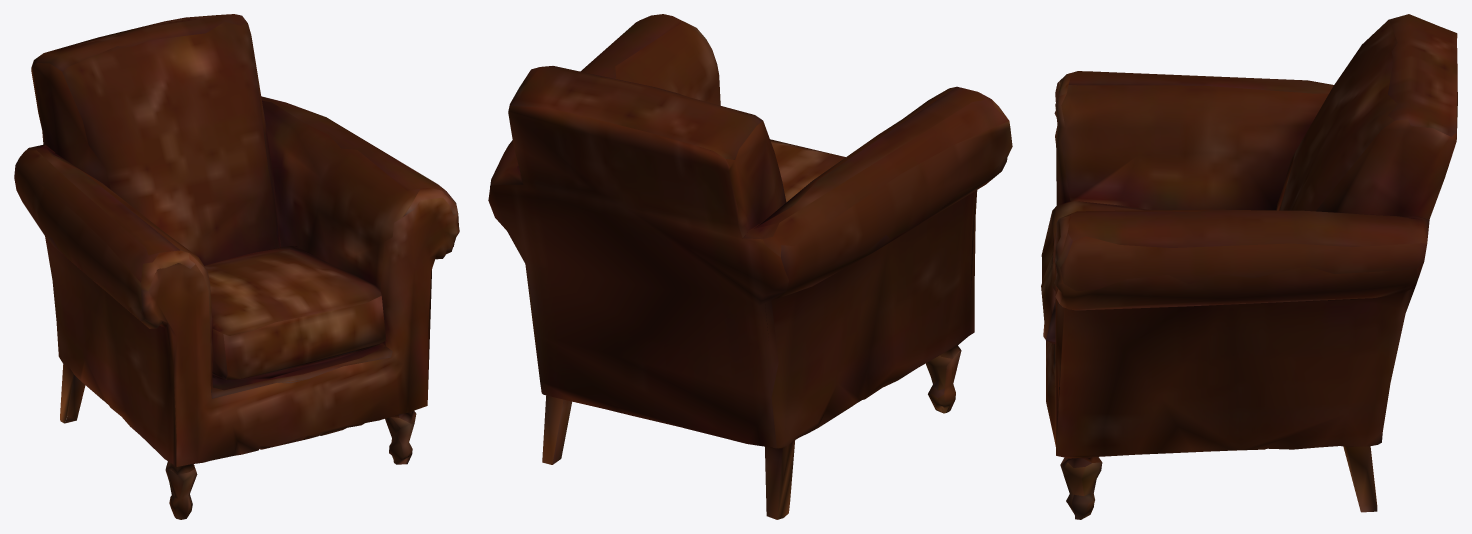
The model's file is sillon_cuero.movil.glb.
3 views of the same model, side by side, from view 1: azimuth 30°, elevation 25°; view 2: azimuth 150°, elevation 25°; view 3: azimuth 270°, elevation 25° (orthographic). The views are drawn at different scales.
Visible parts, largest first — view 1: geometry_0; view 2: geometry_0; view 3: geometry_0.
Boxes of the visible parts, bbox=[...] form: geometry_0: bbox=[14, 14, 459, 519]; geometry_0: bbox=[488, 14, 1012, 519]; geometry_0: bbox=[1041, 14, 1457, 519].
Bounding box in the file's own units: 0.846 × 0.8996 × 0.8476.
Materials: 1 (1 with a texture image).
